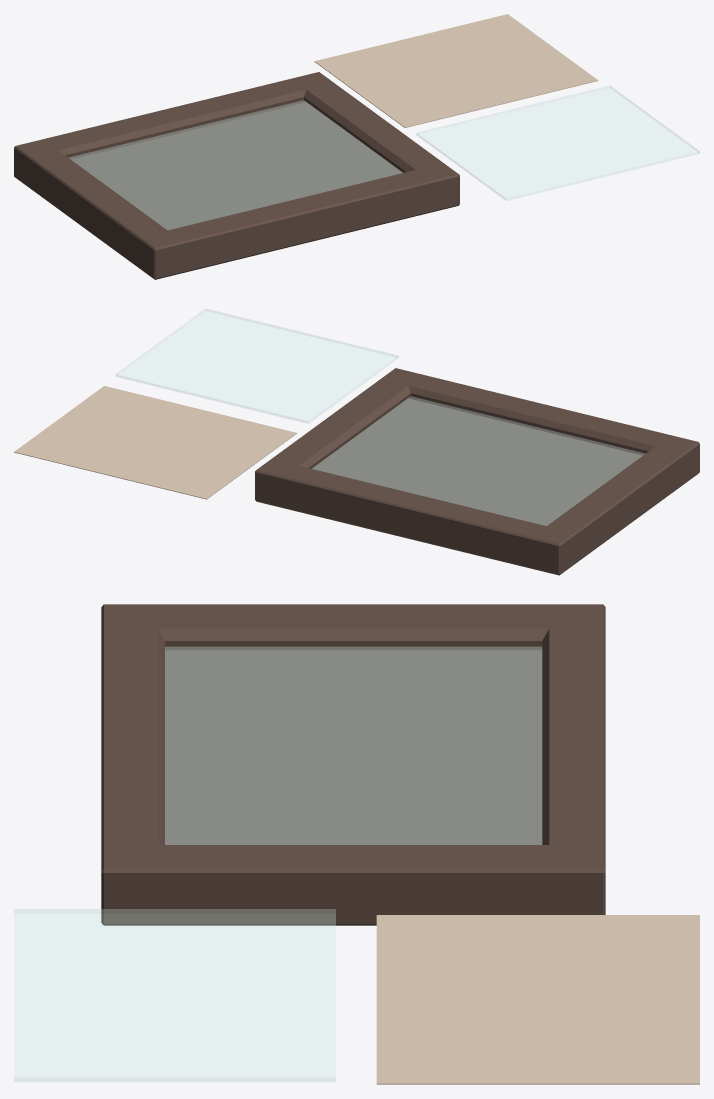
Rendered from demoanim_step05.glb.
The picture shows the model from 3 angles, top to bottom: view 1: azimuth 30°, elevation 25°; view 2: azimuth 150°, elevation 25°; view 3: azimuth 270°, elevation 25°; orthographic projection. The views are drawn at different scales.
Visible parts, largest first — view 1: contactprintingeasel.002, contacteasel_glass, contacteasel_back, glassplate.006, paper.001; view 2: contactprintingeasel.002, contacteasel_glass, contacteasel_back, glassplate.006, paper.001; view 3: contactprintingeasel.002, contacteasel_glass, contacteasel_back, glassplate.006, paper.001.
Part boxes in pixels (x1=…): contactprintingeasel.002: x1=14, y1=72, x2=459, y2=279; contacteasel_glass: x1=69, y1=100, x2=402, y2=229; contacteasel_back: x1=71, y1=102, x2=402, y2=230; glassplate.006: x1=416, y1=85, x2=699, y2=200; paper.001: x1=314, y1=14, x2=598, y2=127; contactprintingeasel.002: x1=255, y1=368, x2=699, y2=575; contacteasel_glass: x1=312, y1=396, x2=644, y2=525; contacteasel_back: x1=312, y1=398, x2=642, y2=525; glassplate.006: x1=116, y1=309, x2=398, y2=423; paper.001: x1=14, y1=386, x2=297, y2=499; contactprintingeasel.002: x1=101, y1=604, x2=605, y2=925; contacteasel_glass: x1=165, y1=647, x2=541, y2=844; contacteasel_back: x1=165, y1=650, x2=542, y2=844; glassplate.006: x1=14, y1=909, x2=335, y2=1081; paper.001: x1=376, y1=915, x2=699, y2=1084.
Size of the model in its own units: 19.45 by 1.13 by 12.41.
